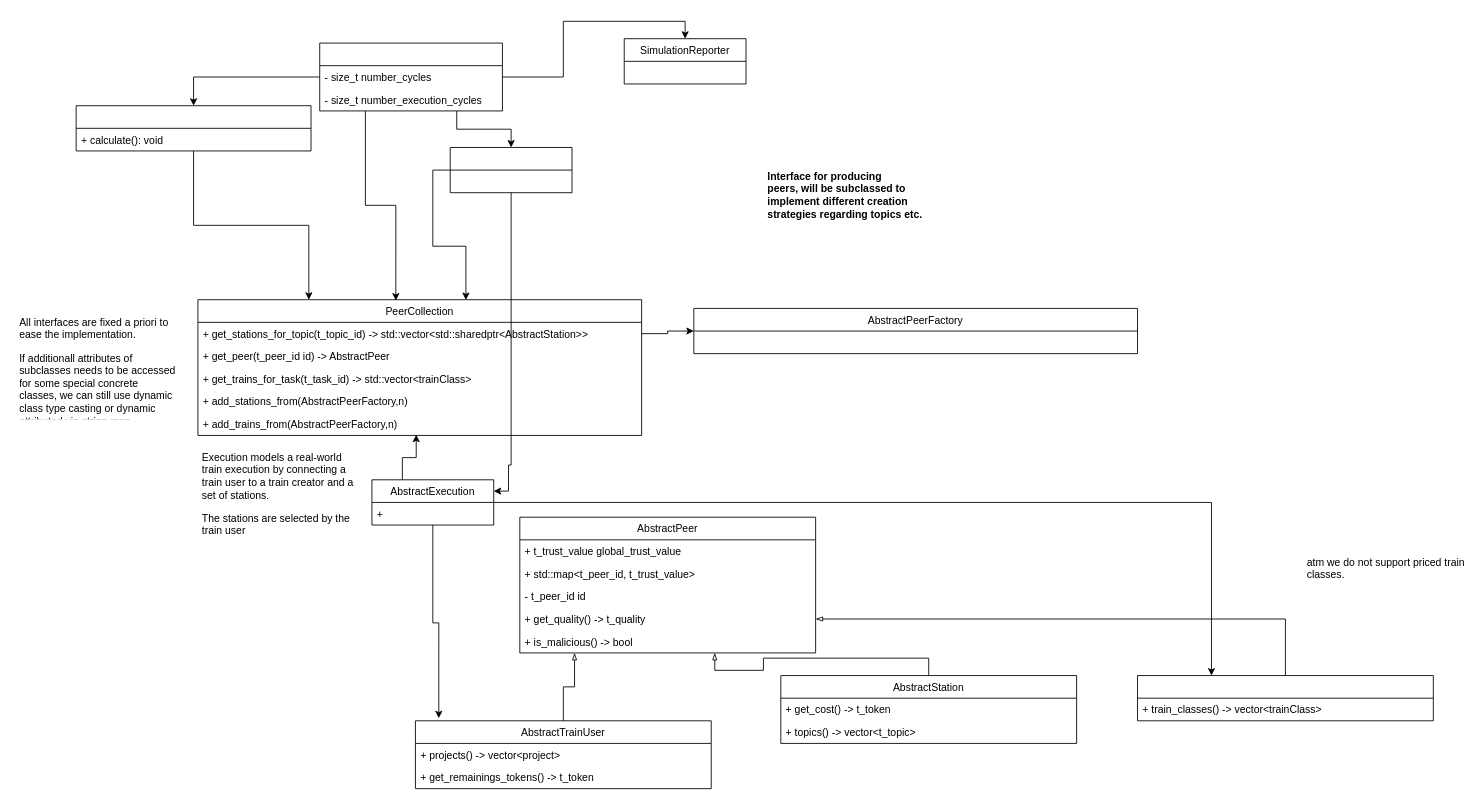
This 1482x806 diagram has some shape labels left out. The shapes that lost their labels are listed below. From the top down, each one's box as (x1, y1, x2, y2) in pixels, then its label:
(319, 42, 502, 111): Simulation
(75, 105, 311, 151): AbstractReputationCalculationStrategy
(449, 147, 572, 193): AbstractSimulationCycle
(1137, 675, 1433, 721): AbstractTrainCreator
